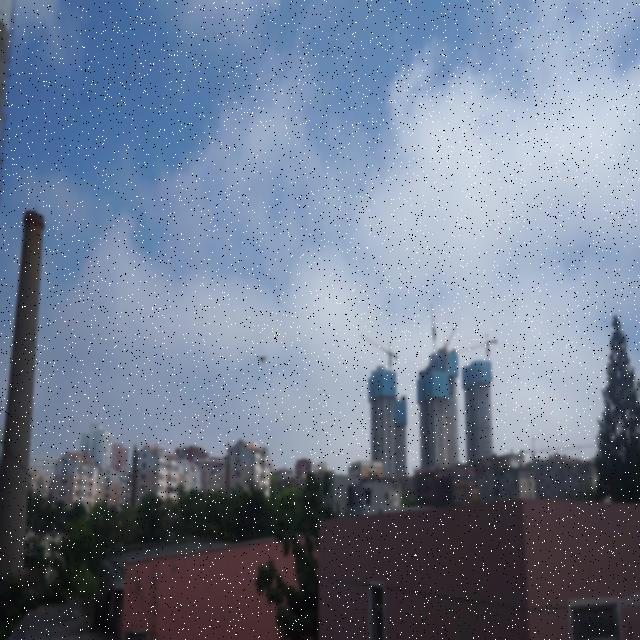UAV: (256, 355, 269, 364)
